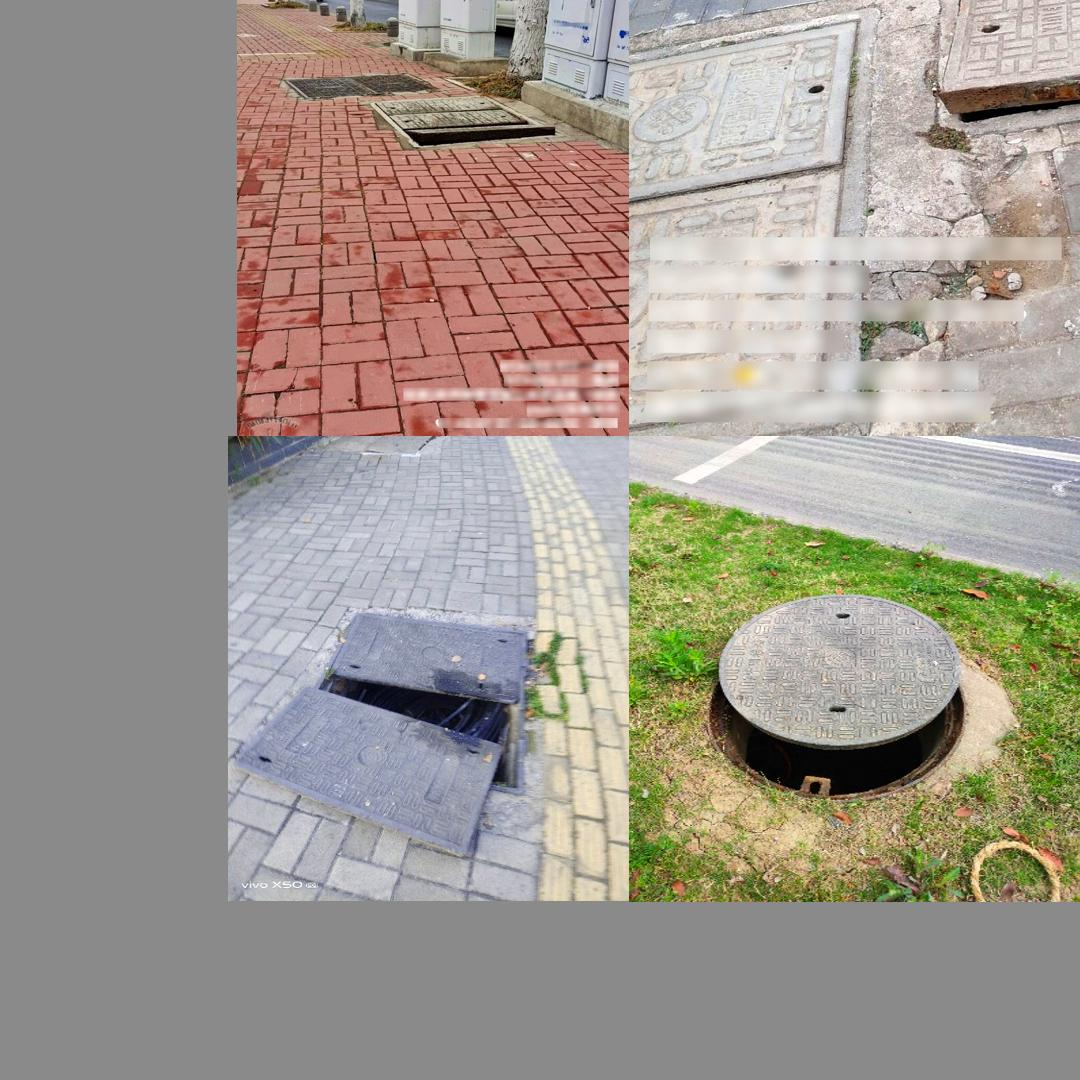good: (638, 9, 891, 436), (281, 69, 438, 102)
uncovered: (237, 609, 528, 863), (706, 593, 962, 796), (930, 0, 1080, 130), (368, 95, 557, 152)
